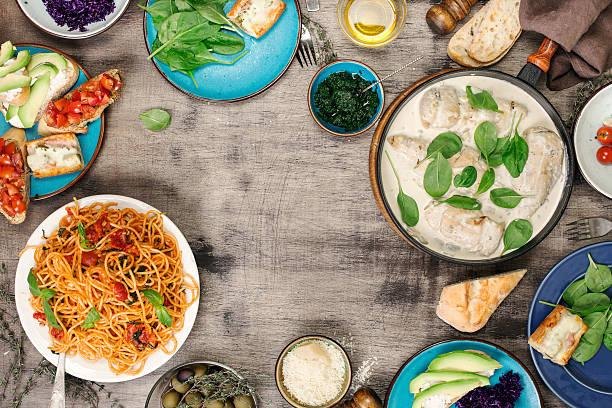Braised Crucian Carp: (371, 67, 572, 263), (16, 194, 202, 382), (0, 44, 115, 203)
